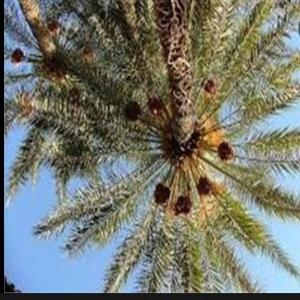palm tree: (3, 0, 299, 292)
